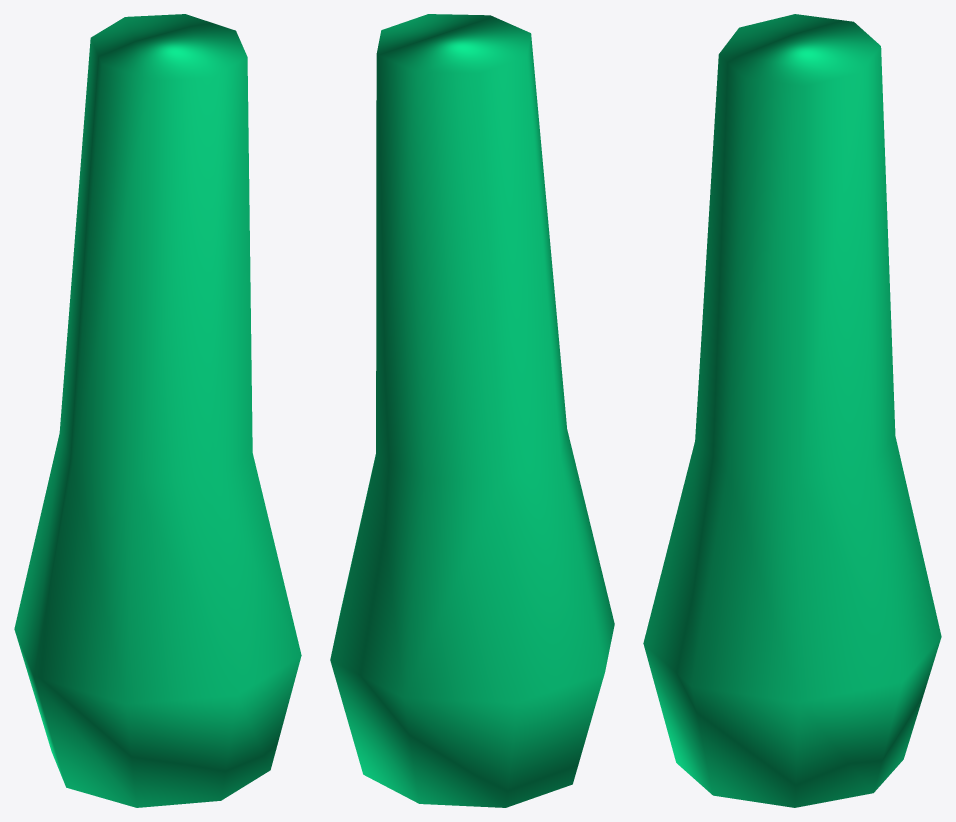
Rendered from Mushroom_04_Feet.fbx.
3 renders of one model, left to right at view 1: azimuth 30°, elevation 25°; view 2: azimuth 150°, elevation 25°; view 3: azimuth 270°, elevation 25°, orthographic.
Visible parts, largest first — view 1: Mushroom_04_Feet; view 2: Mushroom_04_Feet; view 3: Mushroom_04_Feet.
Boxes of the visible parts, x1,y1,x2,y2 form: Mushroom_04_Feet: (14,14,301,807); Mushroom_04_Feet: (330,14,614,807); Mushroom_04_Feet: (643,14,941,807).
Size of the model in its own units: 15.52 by 41.45 by 15.53.
